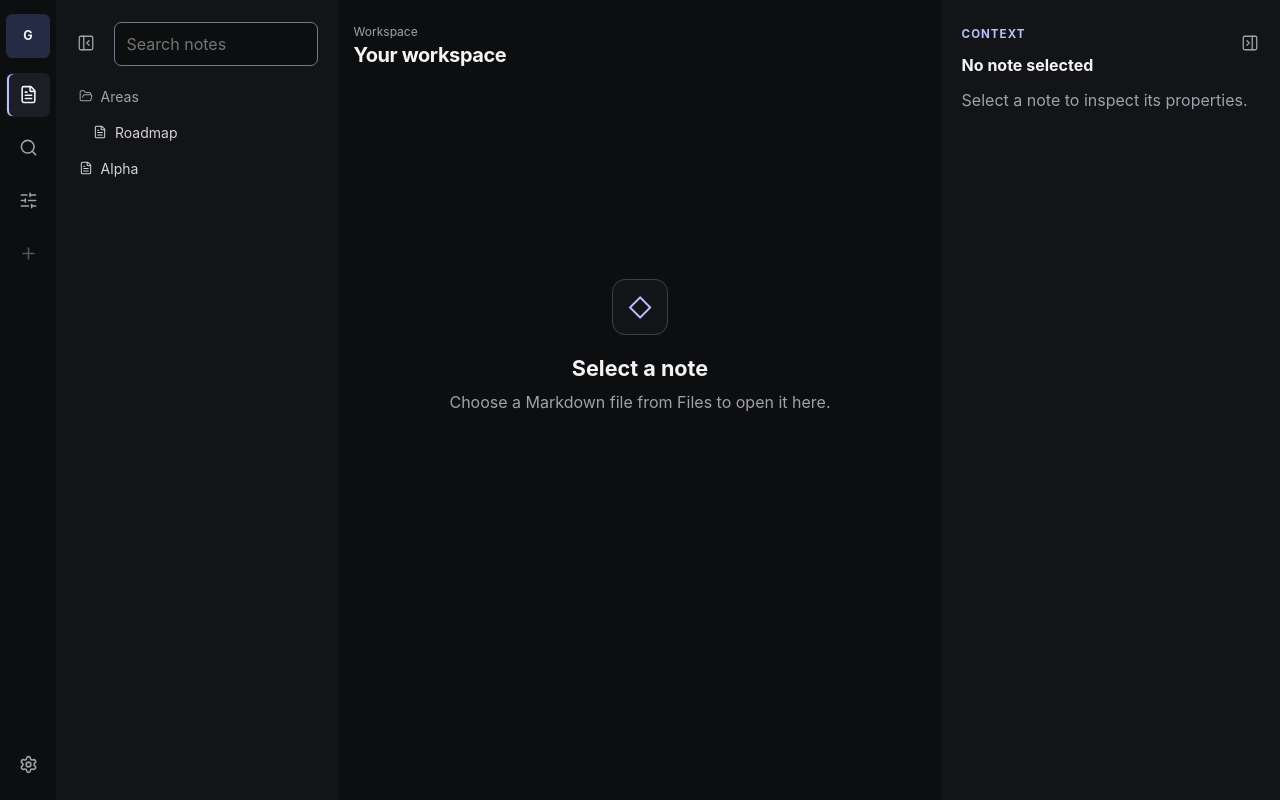
GMD-002/S1 responsive browse shell › S3/R2-S2 opens a server-authorized external search result and safely adds it to inventory
The width and height of the screenshot is (1280, 800).
Type "external" into the search field at x=216, y=44, box [114,22,318,66]
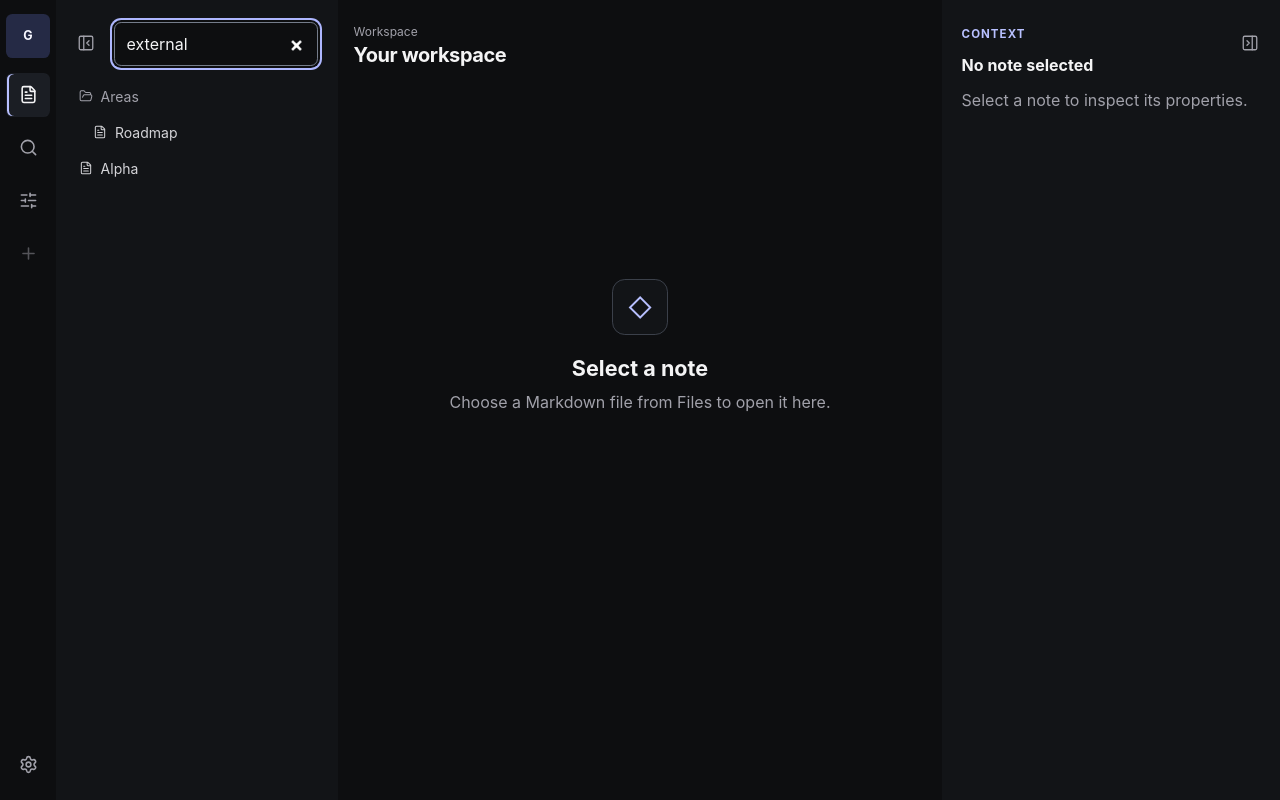
Press Enter
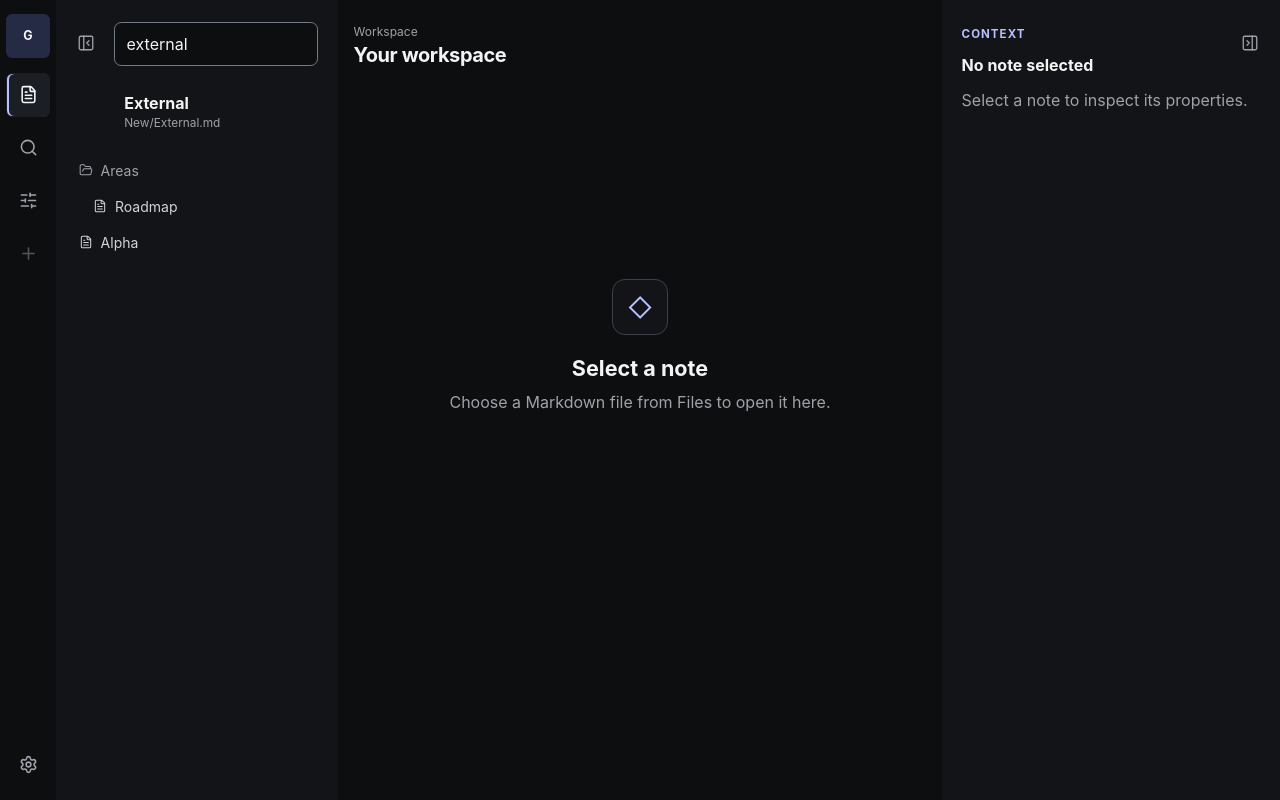
Click the button "External New/External.md" at x=216, y=111, box [114,82,318,140]
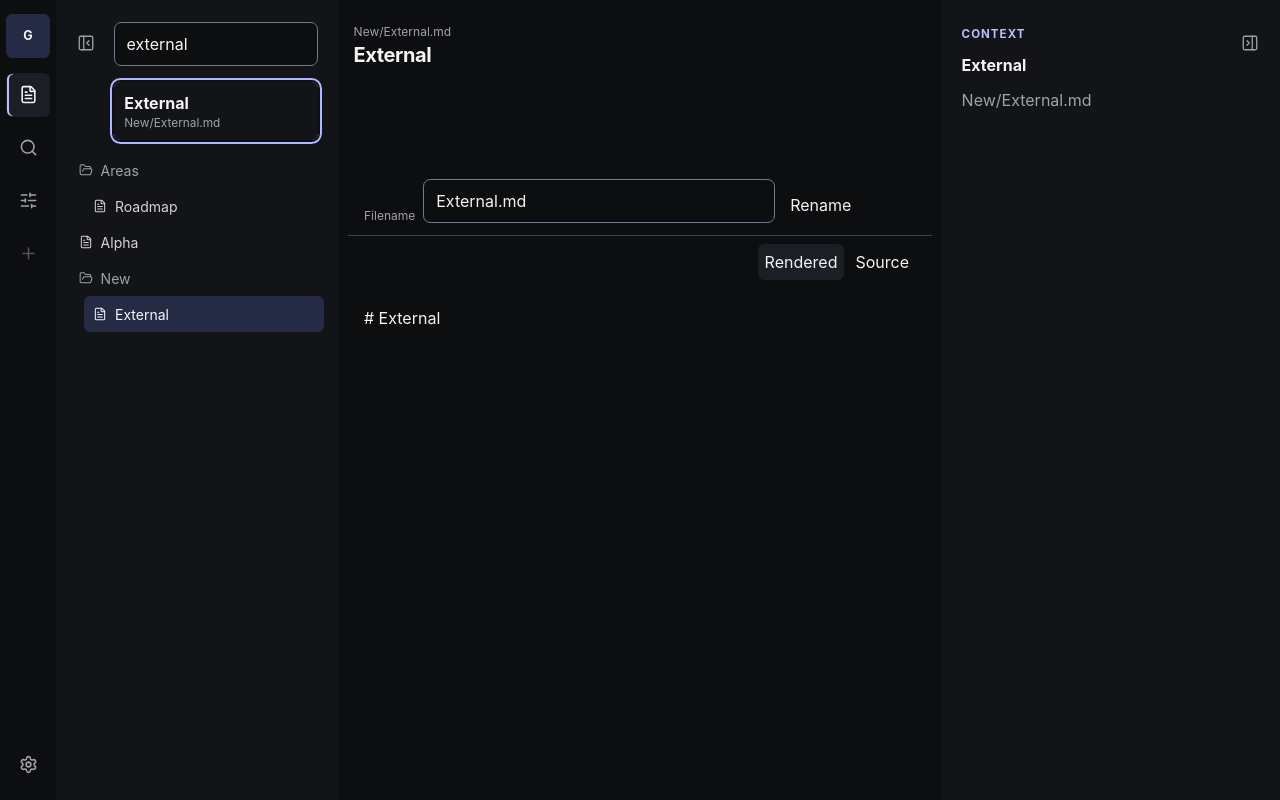
Expected: the heading "External" in the row of "Saved" is shown, [354,43,431,67]
